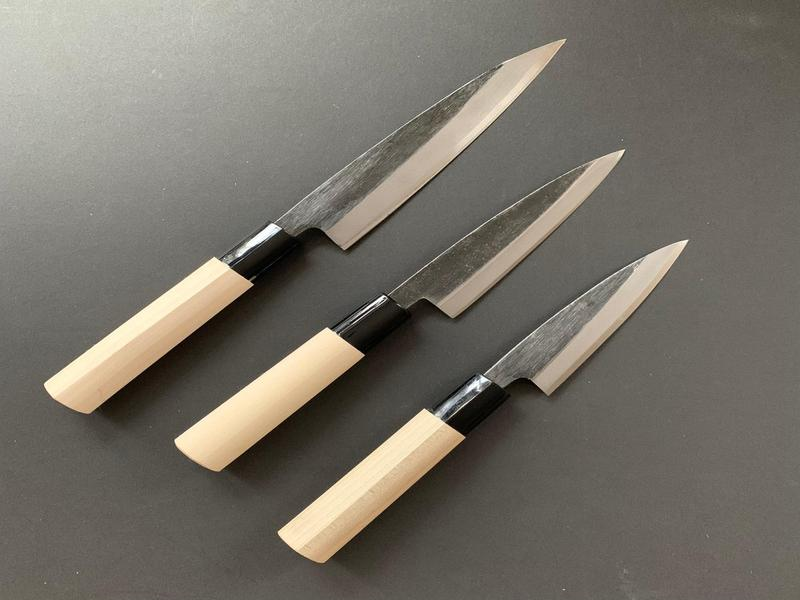KNIFE: (38, 32, 694, 574)
